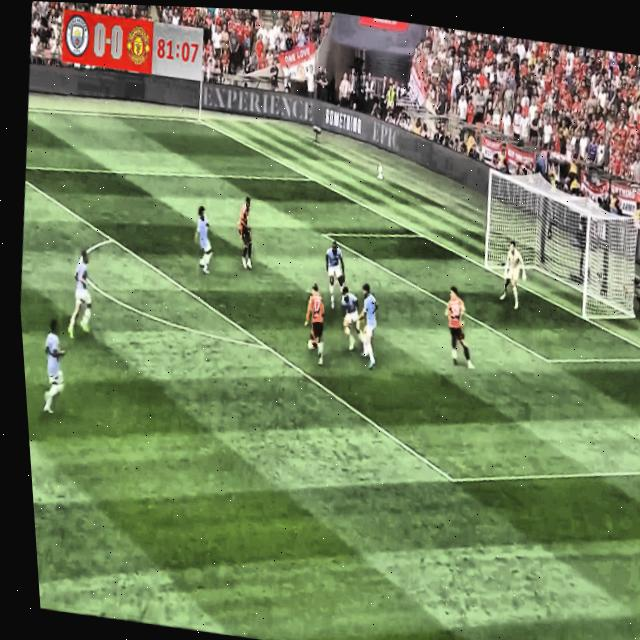ball: (304, 334, 318, 361)
goal_keeper: (491, 231, 536, 318)
players: (56, 241, 105, 346), (434, 277, 485, 376), (32, 313, 75, 420), (311, 226, 361, 317), (330, 275, 377, 365), (290, 274, 334, 365), (226, 184, 268, 279), (350, 283, 387, 374), (187, 200, 224, 287)
